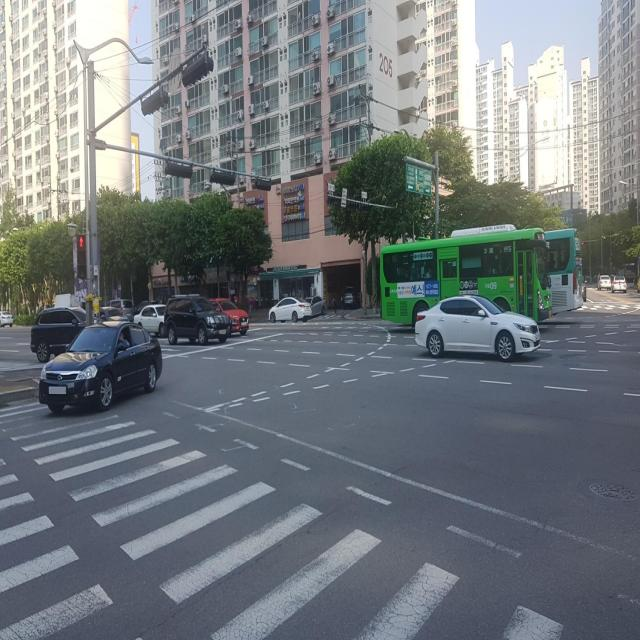빨간불: (76, 234, 87, 280)
횡단보도: (0, 393, 566, 640)
